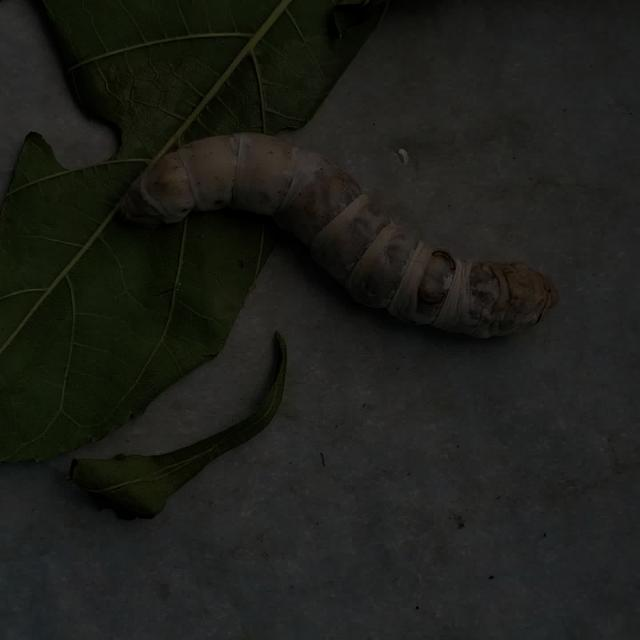Grasserie: (110, 88, 567, 402)
